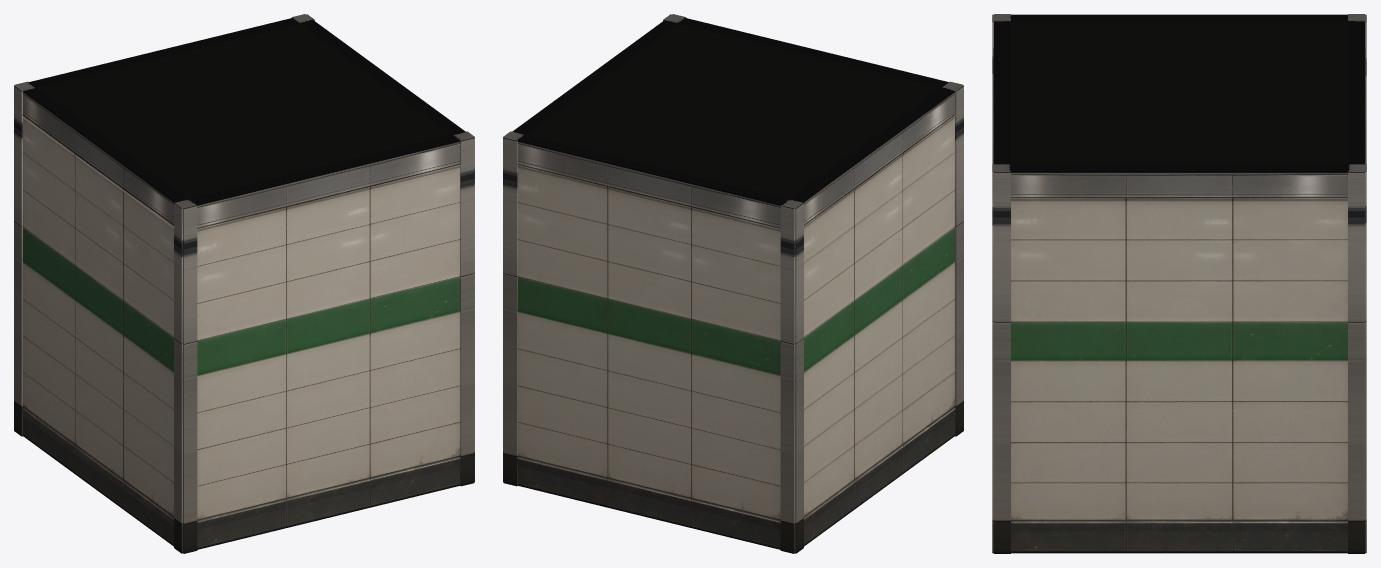
Rendered from wall_c.fbx.
3 views of the same model, side by side, from view 1: azimuth 30°, elevation 25°; view 2: azimuth 150°, elevation 25°; view 3: azimuth 270°, elevation 25° (orthographic). The views are drawn at different scales.
Visible parts, largest first — view 1: Face_N, Face_W, Core, Face_E, Face_S; view 2: Face_S, Face_W, Core, Face_E, Face_N; view 3: Face_E, Core, Face_N, Face_S, Face_W.
Boxes of the visible parts, x1,y1,x2,y2 form: Face_N: (174, 131, 474, 553); Face_W: (14, 81, 197, 553); Core: (36, 23, 451, 199); Face_E: (291, 14, 474, 486); Face_S: (14, 14, 314, 436); Face_S: (503, 131, 803, 553); Face_W: (780, 81, 963, 553); Core: (526, 23, 941, 199); Face_E: (503, 14, 686, 486); Face_N: (663, 14, 963, 436); Face_E: (992, 164, 1366, 553); Core: (1011, 22, 1347, 164); Face_N: (993, 14, 1010, 553); Face_S: (1348, 14, 1365, 553); Face_W: (992, 14, 1366, 164).
Bounding box in the file's own units: 4 × 4.5 × 4.
1 material, 1 textured.
